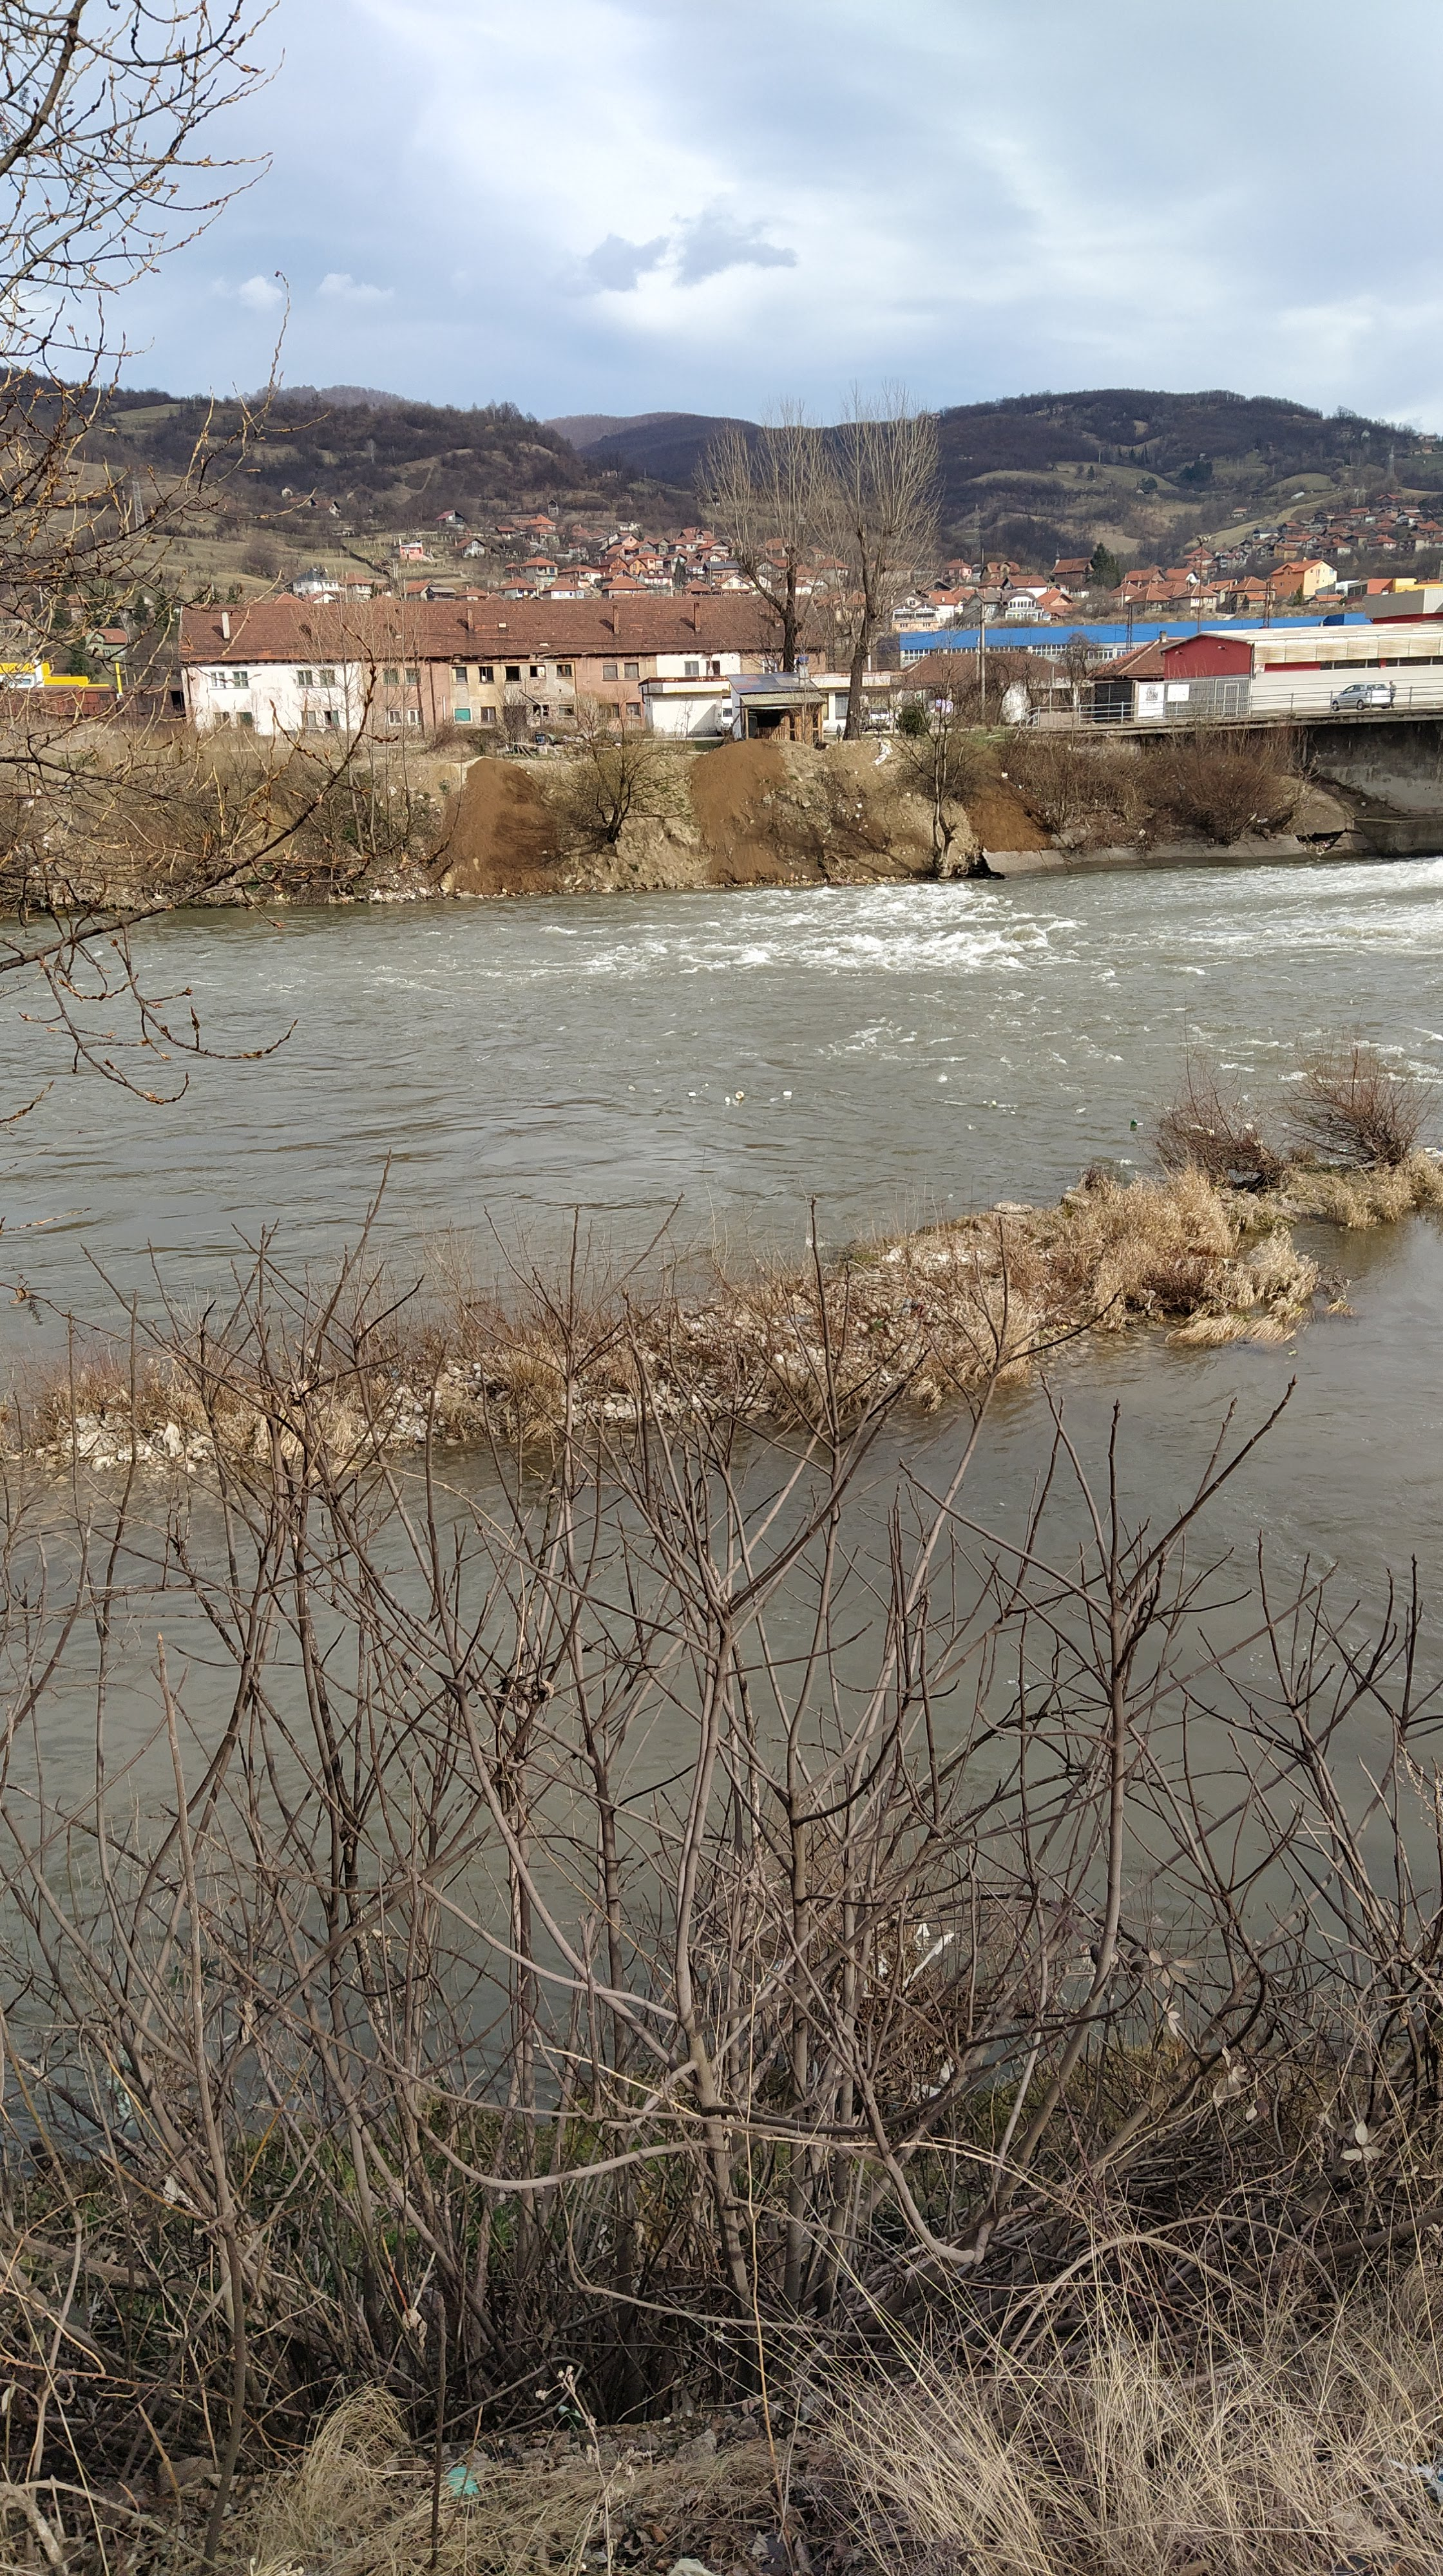Plastic Bottle: (783, 1090, 791, 1097), (1130, 1118, 1137, 1125), (1076, 1108, 1085, 1113), (629, 1085, 634, 1092), (737, 1092, 742, 1099), (770, 1097, 777, 1102), (689, 1092, 694, 1097), (949, 1192, 953, 1198), (726, 1097, 729, 1102)
